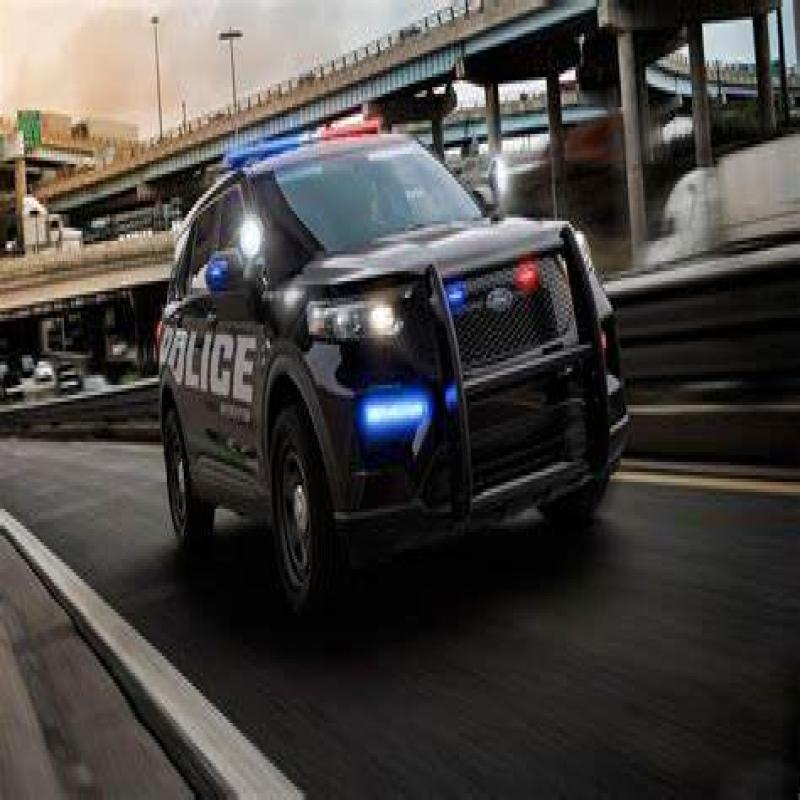AmbulanceSiren: (208, 110, 386, 156)
car: (141, 168, 604, 511)
